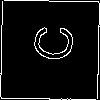C: (25, 25, 73, 61)
